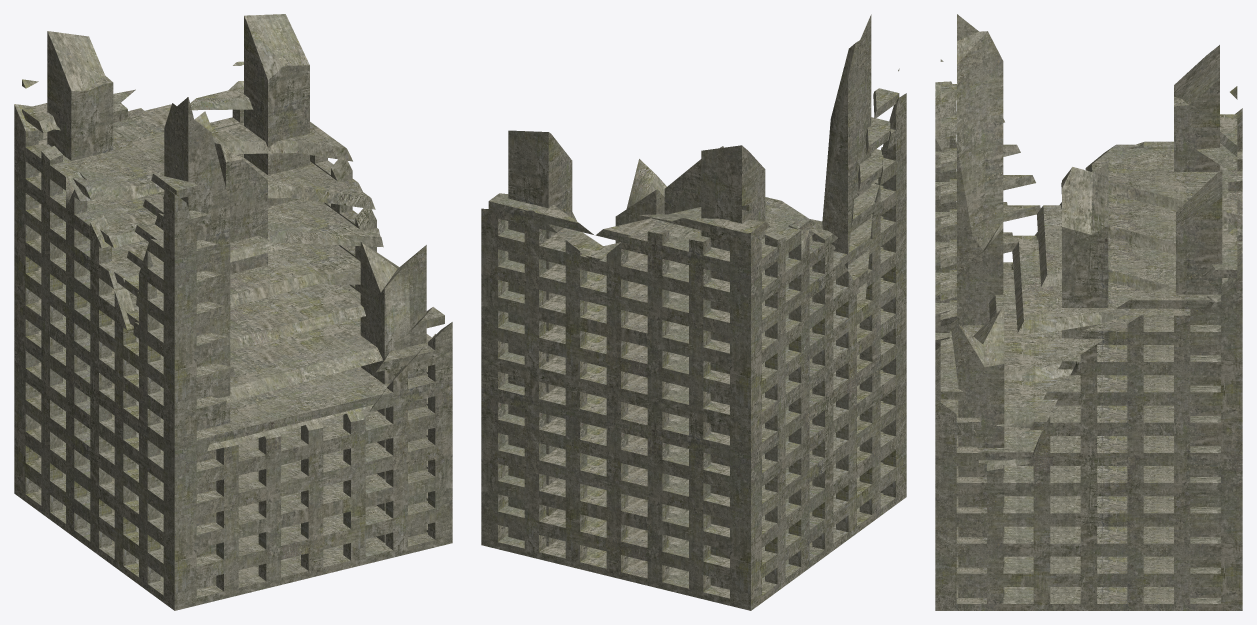
3 renders of one model, left to right at view 1: azimuth 30°, elevation 25°; view 2: azimuth 150°, elevation 25°; view 3: azimuth 270°, elevation 25°, orthographic. The views are drawn at different scales.
Visible parts, largest first — view 1: Cube.014_4; view 2: Cube.014_4; view 3: Cube.014_4.
Boxes of the visible parts, <box> form: Cube.014_4: <box>14,14,452,610</box>; Cube.014_4: <box>481,14,906,610</box>; Cube.014_4: <box>935,14,1242,610</box>.
Bounding box in the file's own units: 3.05 × 5.24 × 3.05.
1 material, 1 textured.
